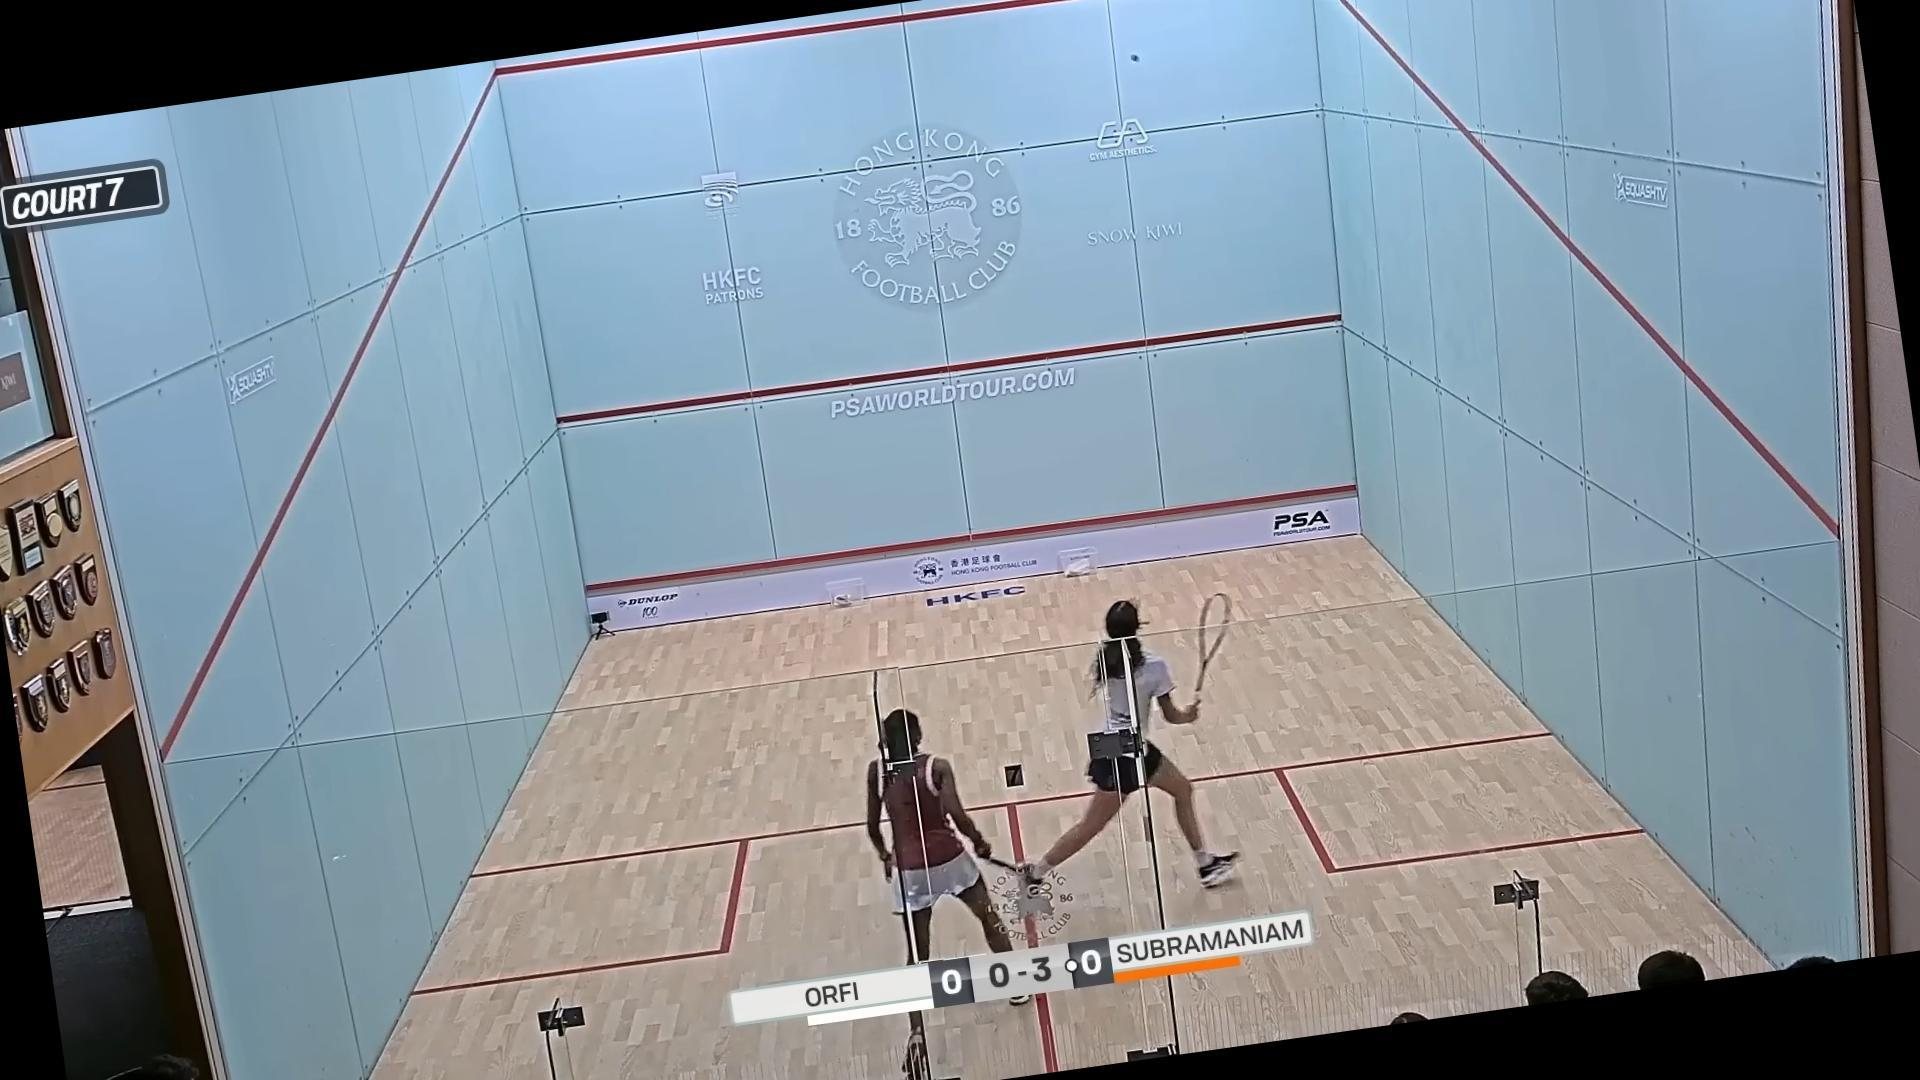Squash-Ball: (1118, 41, 1150, 75)
